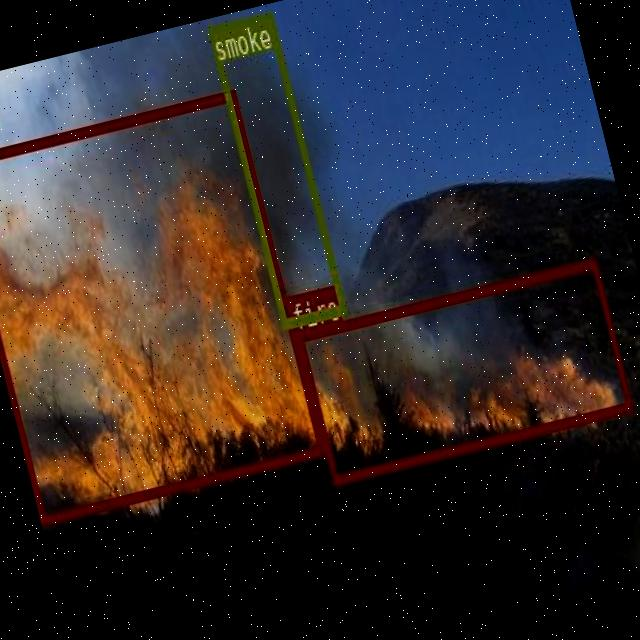fire: (0, 87, 324, 522), (294, 257, 632, 484)
smoke: (207, 11, 345, 328)
